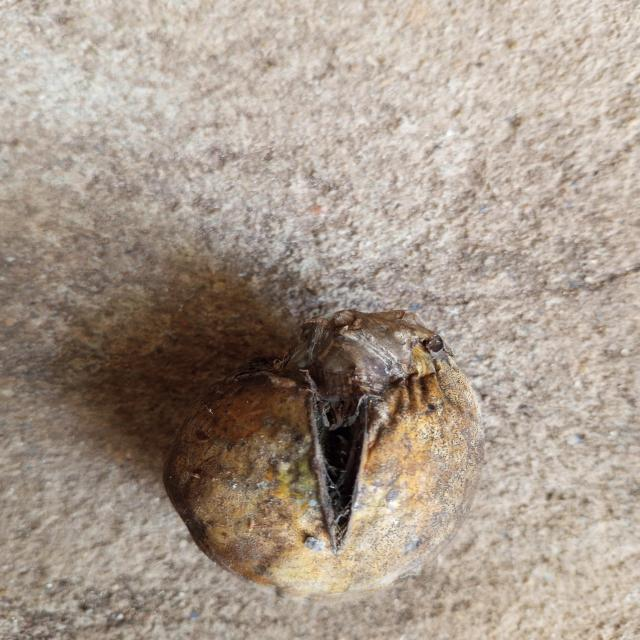damaged: (161, 310, 485, 605)
